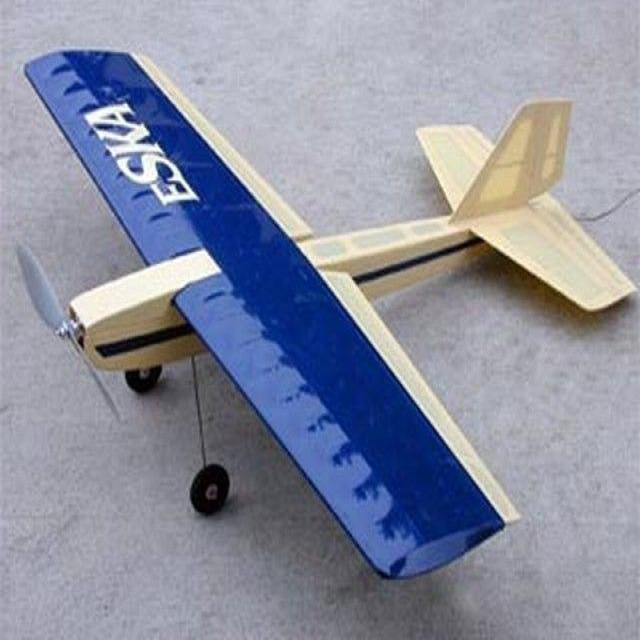iha: (10, 44, 637, 589)
